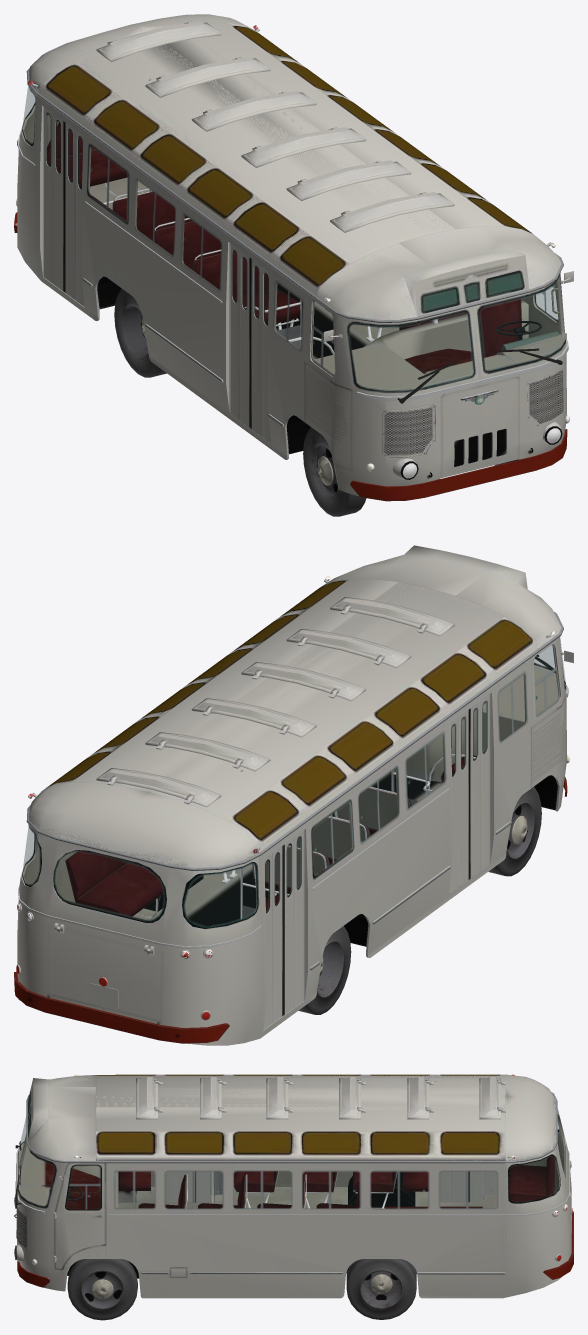
File: paz652.glb
3 views of the same model, one above another, from view 1: azimuth 30°, elevation 25°; view 2: azimuth 150°, elevation 25°; view 3: azimuth 270°, elevation 25° (orthographic). The views are drawn at different scales.
Parts seen in each view (by area): view 1: W1; view 2: W1; view 3: W1.
Boxes of the visible parts, <box> form: W1: <box>14,14,573,516</box>; W1: <box>14,545,573,1045</box>; W1: <box>14,1074,573,1320</box>.
Bounding box in the file's own units: 2.71 × 2.75 × 7.15.
5 materials, 4 textured.
